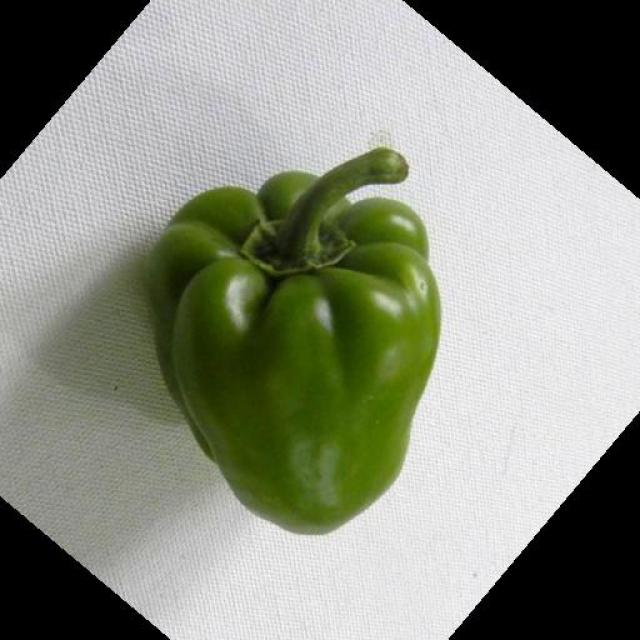Fresh_Capsicum: (132, 146, 443, 530)
